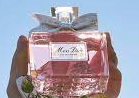dior_miss_dior: (25, 3, 111, 96)
